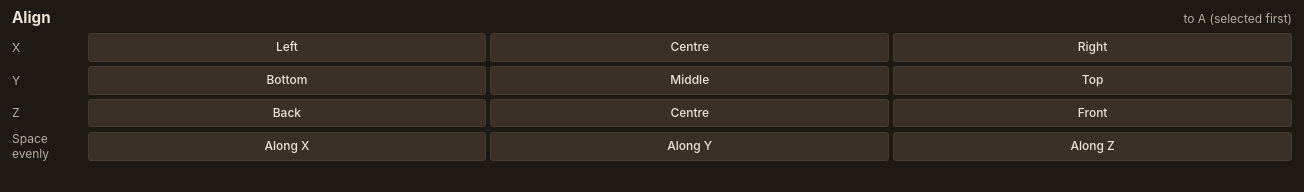
AlignSection › three selected: Space evenly; a refusal shows, and a new selection clears it
The image size is (1304, 192).
Step 1. Click the button with aria-label "Space evenly along Y" → {"x": 690, "y": 146}, box [490,132,889,161]
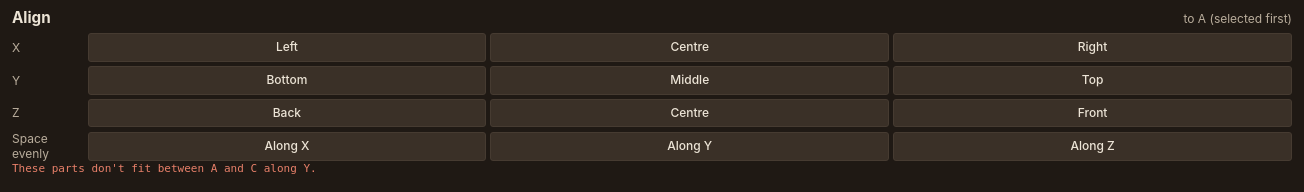
Expected: the message reads "These parts don't fit between A and C along Y.", [12,162,317,175]
